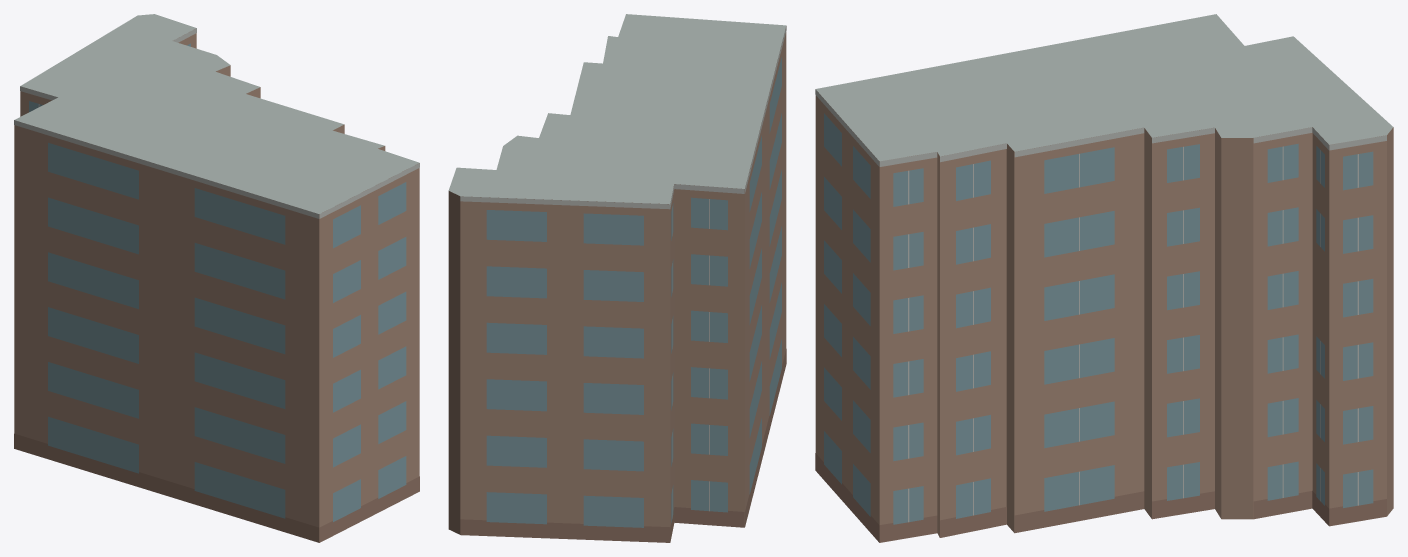
The model's file is survey-upis-32969555.glb.
The picture shows the model from 3 angles, left to right: view 1: azimuth 30°, elevation 25°; view 2: azimuth 150°, elevation 25°; view 3: azimuth 270°, elevation 25°; orthographic projection. The views are drawn at different scales.
Visible parts, largest first — view 1: survey-upis-32969555.tmp; view 2: survey-upis-32969555.tmp; view 3: survey-upis-32969555.tmp.
Boxes of the visible parts, box(x1,y1,x2,y2) form: survey-upis-32969555.tmp: box(14, 14, 419, 542); survey-upis-32969555.tmp: box(448, 14, 786, 542); survey-upis-32969555.tmp: box(815, 14, 1393, 542).
Bounding box in the file's own units: 13.61 × 16.4 × 22.54.
